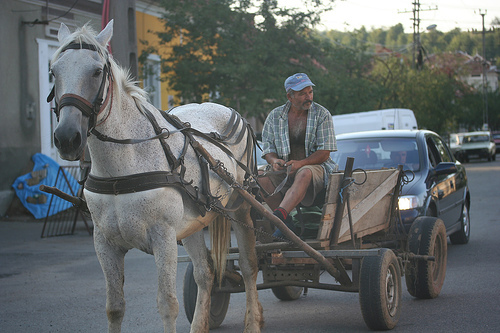horse: (50, 18, 266, 330)
